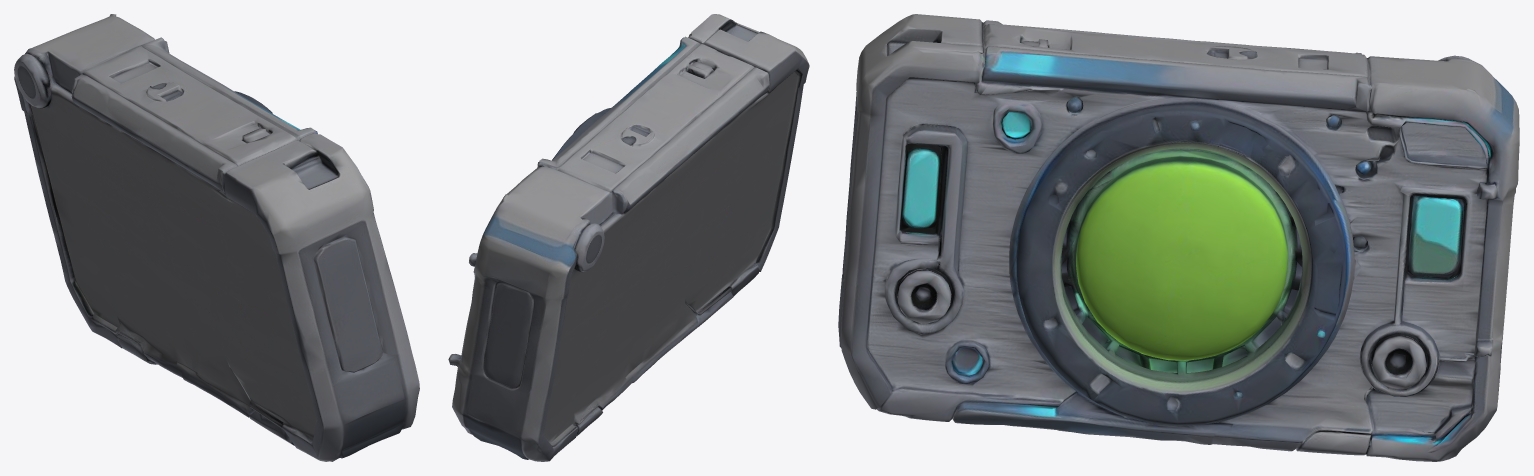
The model's file is even_company.glb.
3 views of the same model, side by side, from view 1: azimuth 30°, elevation 25°; view 2: azimuth 150°, elevation 25°; view 3: azimuth 270°, elevation 25° (orthographic). The views are drawn at different scales.
Visible parts, largest first — view 1: tripo_node_651611d7-99aa-4d31-a6e2-0d6cf0a0fb4a; view 2: tripo_node_651611d7-99aa-4d31-a6e2-0d6cf0a0fb4a; view 3: tripo_node_651611d7-99aa-4d31-a6e2-0d6cf0a0fb4a.
Part boxes in pixels (box(x1,y1,x2,y2)): tripo_node_651611d7-99aa-4d31-a6e2-0d6cf0a0fb4a: box(14, 14, 419, 461); tripo_node_651611d7-99aa-4d31-a6e2-0d6cf0a0fb4a: box(448, 14, 809, 461); tripo_node_651611d7-99aa-4d31-a6e2-0d6cf0a0fb4a: box(838, 14, 1519, 461).
Size of the model in its own units: 0.3429 by 0.6376 by 0.9798.
1 material, 1 textured.
